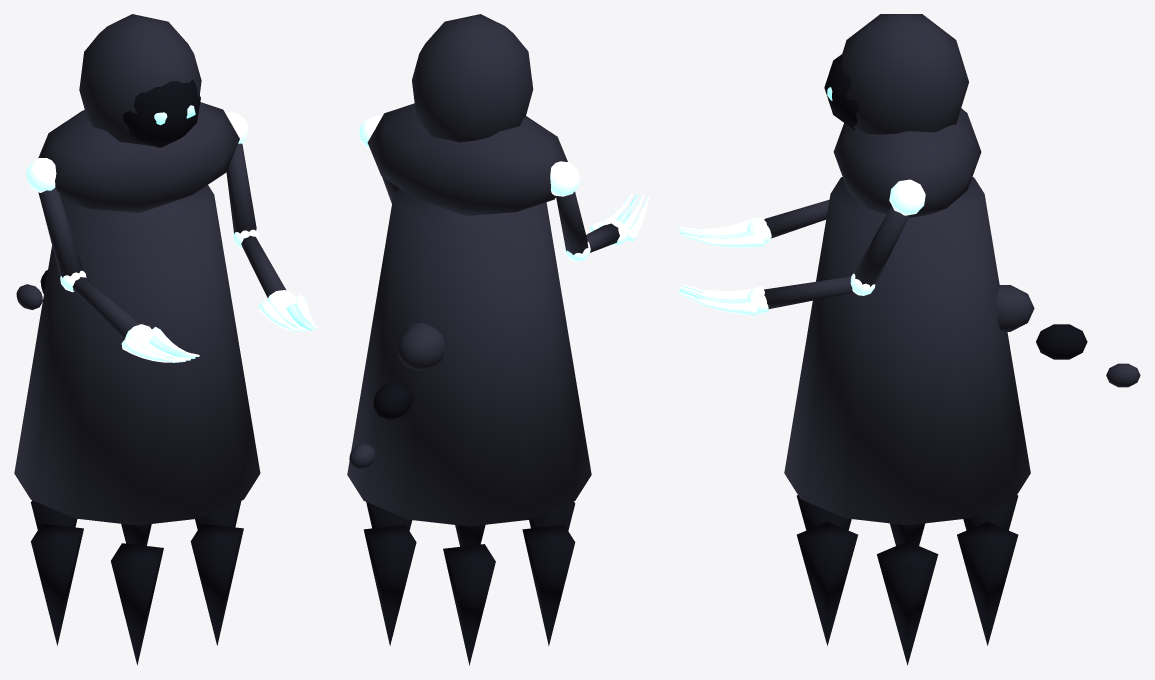
The model's file is elven-wraith.glb.
3 views of the same model, side by side, from view 1: azimuth 30°, elevation 25°; view 2: azimuth 150°, elevation 25°; view 3: azimuth 270°, elevation 25° (orthographic).
Visible parts, largest first — view 1: Body Mesh, Head Mesh, ArmR Elbow Mesh, ArmL Elbow Mesh, ArmR Mesh, ArmL Mesh, Tail 2 Mesh; view 2: Body Mesh, Head Mesh, ArmR Mesh, ArmR Elbow Mesh, Tail 0 Mesh, Tail 1 Mesh, ArmL Mesh, Tail 2 Mesh; view 3: Body Mesh, Head Mesh, ArmL Elbow Mesh, ArmR Elbow Mesh, ArmL Mesh, Tail 1 Mesh, Tail 0 Mesh.
Boxes of the visible parts, x1=… form: Body Mesh: x1=14, y1=102, x2=260, y2=665; Head Mesh: x1=79, y1=14, x2=201, y2=147; ArmR Elbow Mesh: x1=60, y1=270, x2=199, y2=362; ArmL Elbow Mesh: x1=233, y1=229, x2=318, y2=331; ArmR Mesh: x1=26, y1=158, x2=83, y2=277; ArmL Mesh: x1=225, y1=112, x2=256, y2=233; Tail 2 Mesh: x1=16, y1=284, x2=42, y2=309; Body Mesh: x1=347, y1=103, x2=591, y2=665; Head Mesh: x1=412, y1=14, x2=533, y2=142; ArmR Mesh: x1=550, y1=161, x2=588, y2=254; ArmR Elbow Mesh: x1=564, y1=193, x2=649, y2=261; Tail 0 Mesh: x1=397, y1=322, x2=444, y2=370; Tail 1 Mesh: x1=373, y1=381, x2=412, y2=419; ArmL Mesh: x1=359, y1=116, x2=398, y2=203; Tail 2 Mesh: x1=349, y1=443, x2=375, y2=468; Body Mesh: x1=784, y1=108, x2=1030, y2=665; Head Mesh: x1=824, y1=14, x2=968, y2=134; ArmL Elbow Mesh: x1=678, y1=273, x2=875, y2=315; ArmR Elbow Mesh: x1=678, y1=199, x2=829, y2=247; ArmL Mesh: x1=853, y1=179, x2=925, y2=286; Tail 1 Mesh: x1=1036, y1=324, x2=1087, y2=359; Tail 0 Mesh: x1=996, y1=285, x2=1034, y2=331.
Size of the model in its own units: 0.8182 by 2.19 by 1.5.
